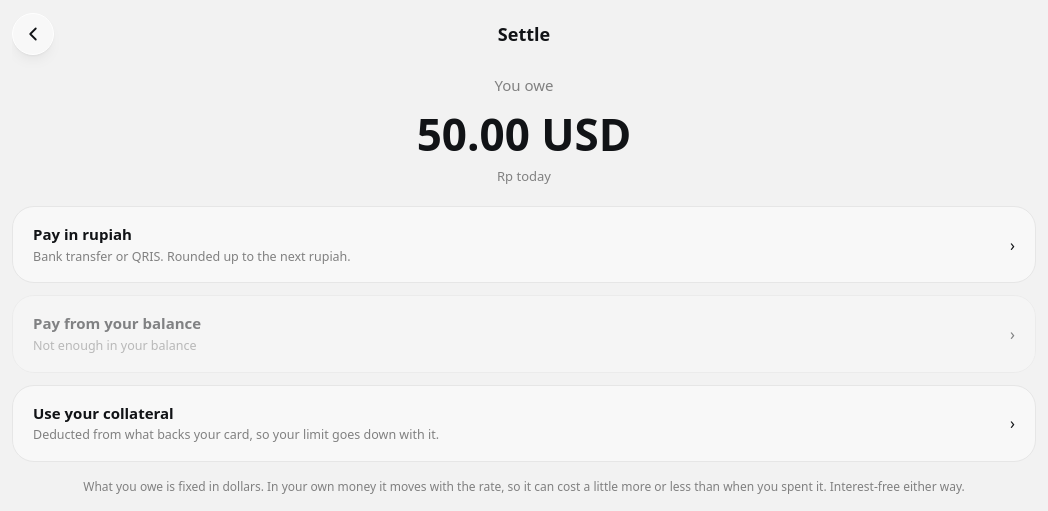
Test: paying in rupiah locks a fresh quote and opens the checkout
Click the button "Pay in rupiah": coordinates (82, 234) x1=12 y1=206 x2=1036 y2=283
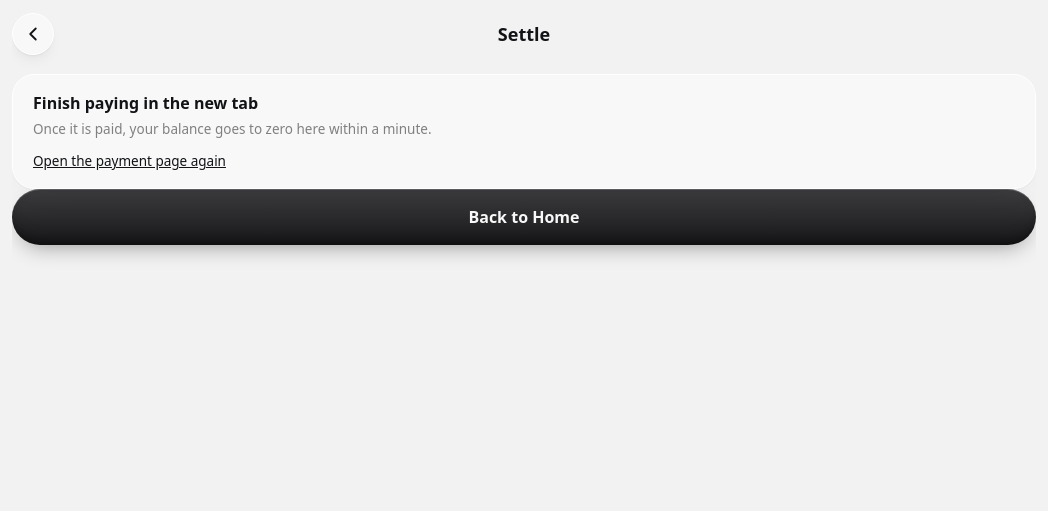
expect the heading "Finish paying in the new tab" is shown: met, box x1=33 y1=92 x2=258 y2=114
